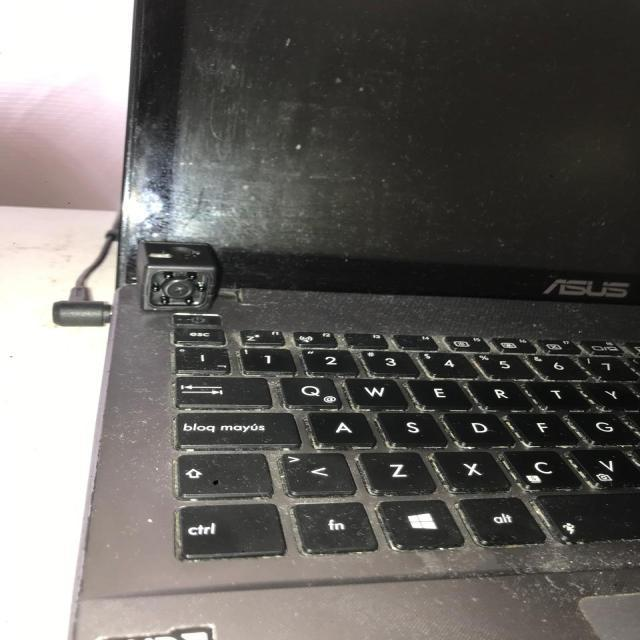hidden camera: (165, 280, 194, 300)
